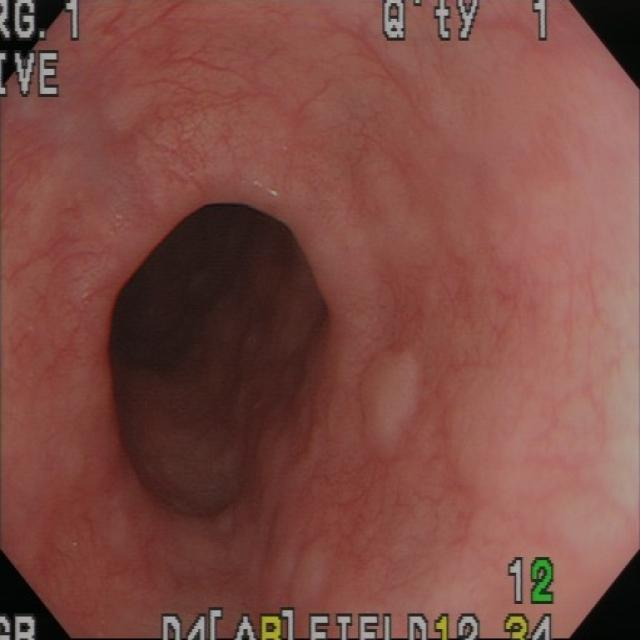E: (104, 195, 339, 536)
J: (359, 344, 432, 464), (267, 543, 329, 607)
S: (160, 608, 483, 640), (383, 3, 558, 45), (3, 3, 83, 45), (3, 50, 63, 101), (507, 558, 556, 608), (506, 614, 556, 640), (2, 614, 39, 640)
U: (251, 178, 281, 198)
